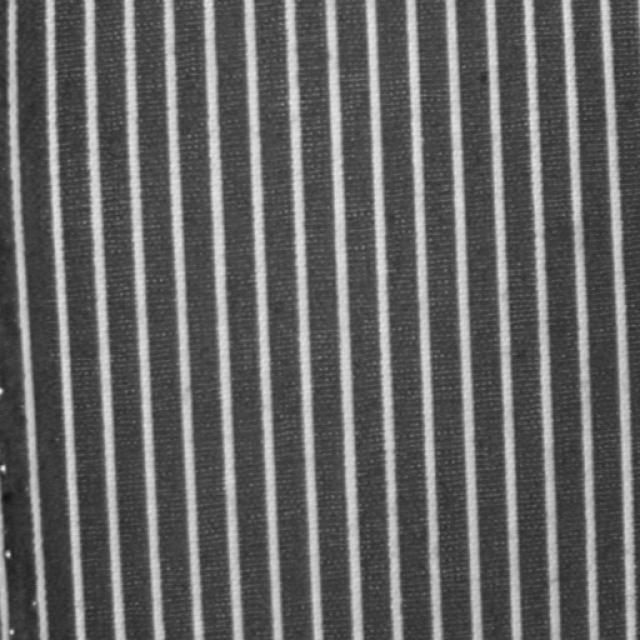Hole-Defect: (0, 368, 39, 639)
